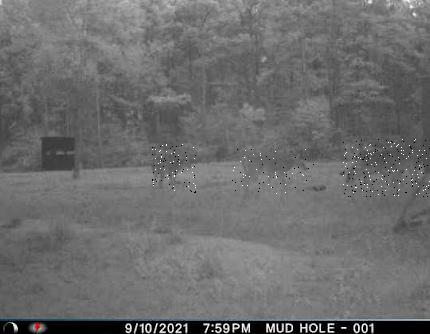Deer: (343, 139, 430, 197), (232, 148, 317, 196), (152, 144, 196, 193)
